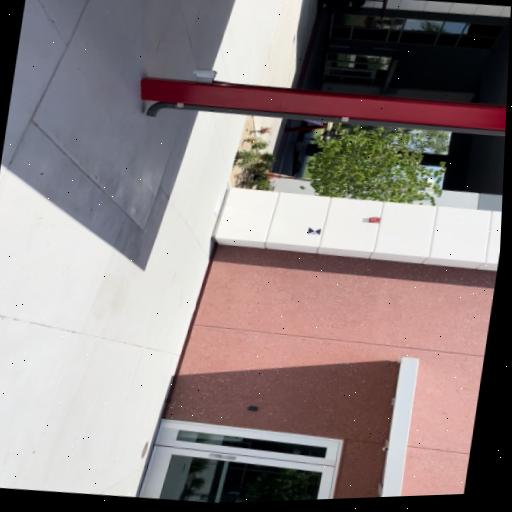target6: (307, 227, 321, 236)
